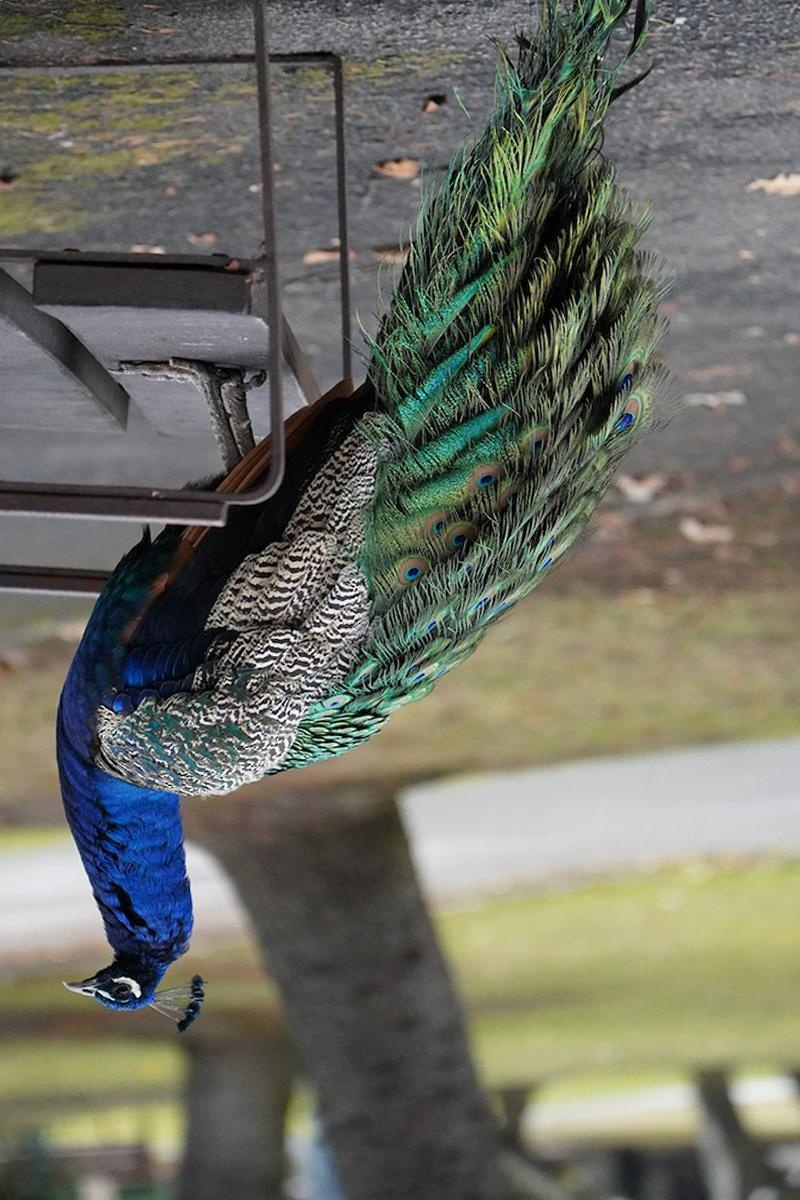peacock: (3, 63, 655, 1043)
